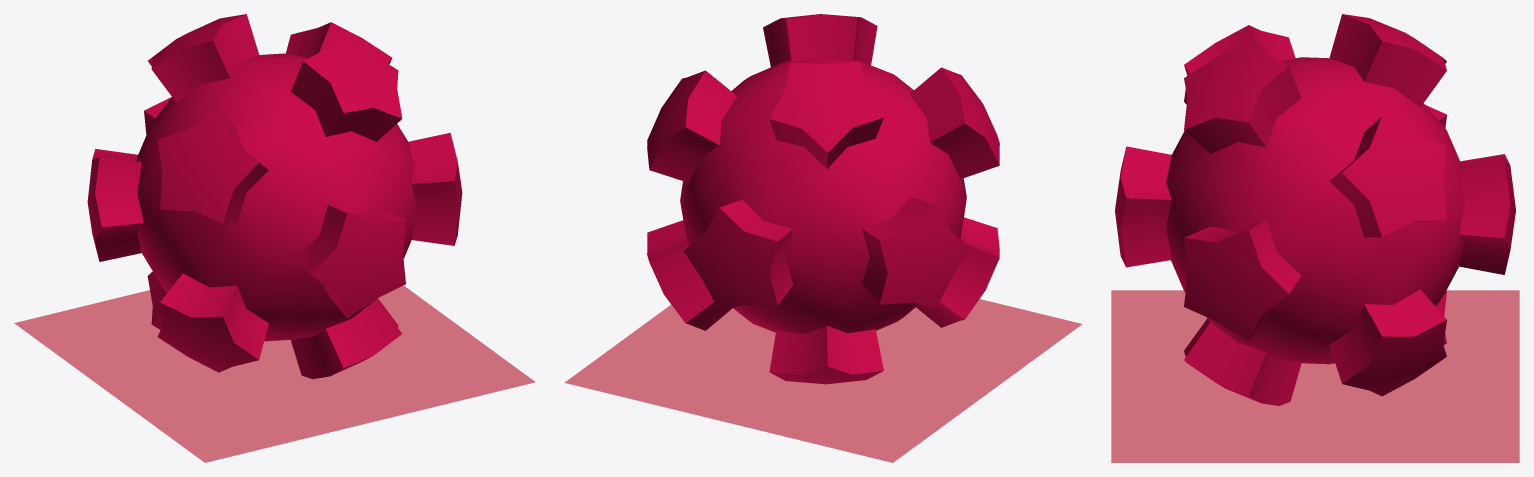
The model's file is planet1_pink.fbx.
3 views of the same model, side by side, from view 1: azimuth 30°, elevation 25°; view 2: azimuth 150°, elevation 25°; view 3: azimuth 270°, elevation 25° (orthographic). The views are drawn at different scales.
Parts seen in each view (by area): view 1: planet1, five_five; view 2: planet1, five_five; view 3: planet1, five_five.
Part boxes in pixels (<box>): planet1: <box>87,14,462,379</box>; five_five: <box>14,285,535,462</box>; planet1: <box>647,14,999,384</box>; five_five: <box>564,299,1082,462</box>; planet1: <box>1115,14,1515,405</box>; five_five: <box>1111,290,1519,462</box>.
Bounding box in the file's own units: 5 × 4.65 × 5.
